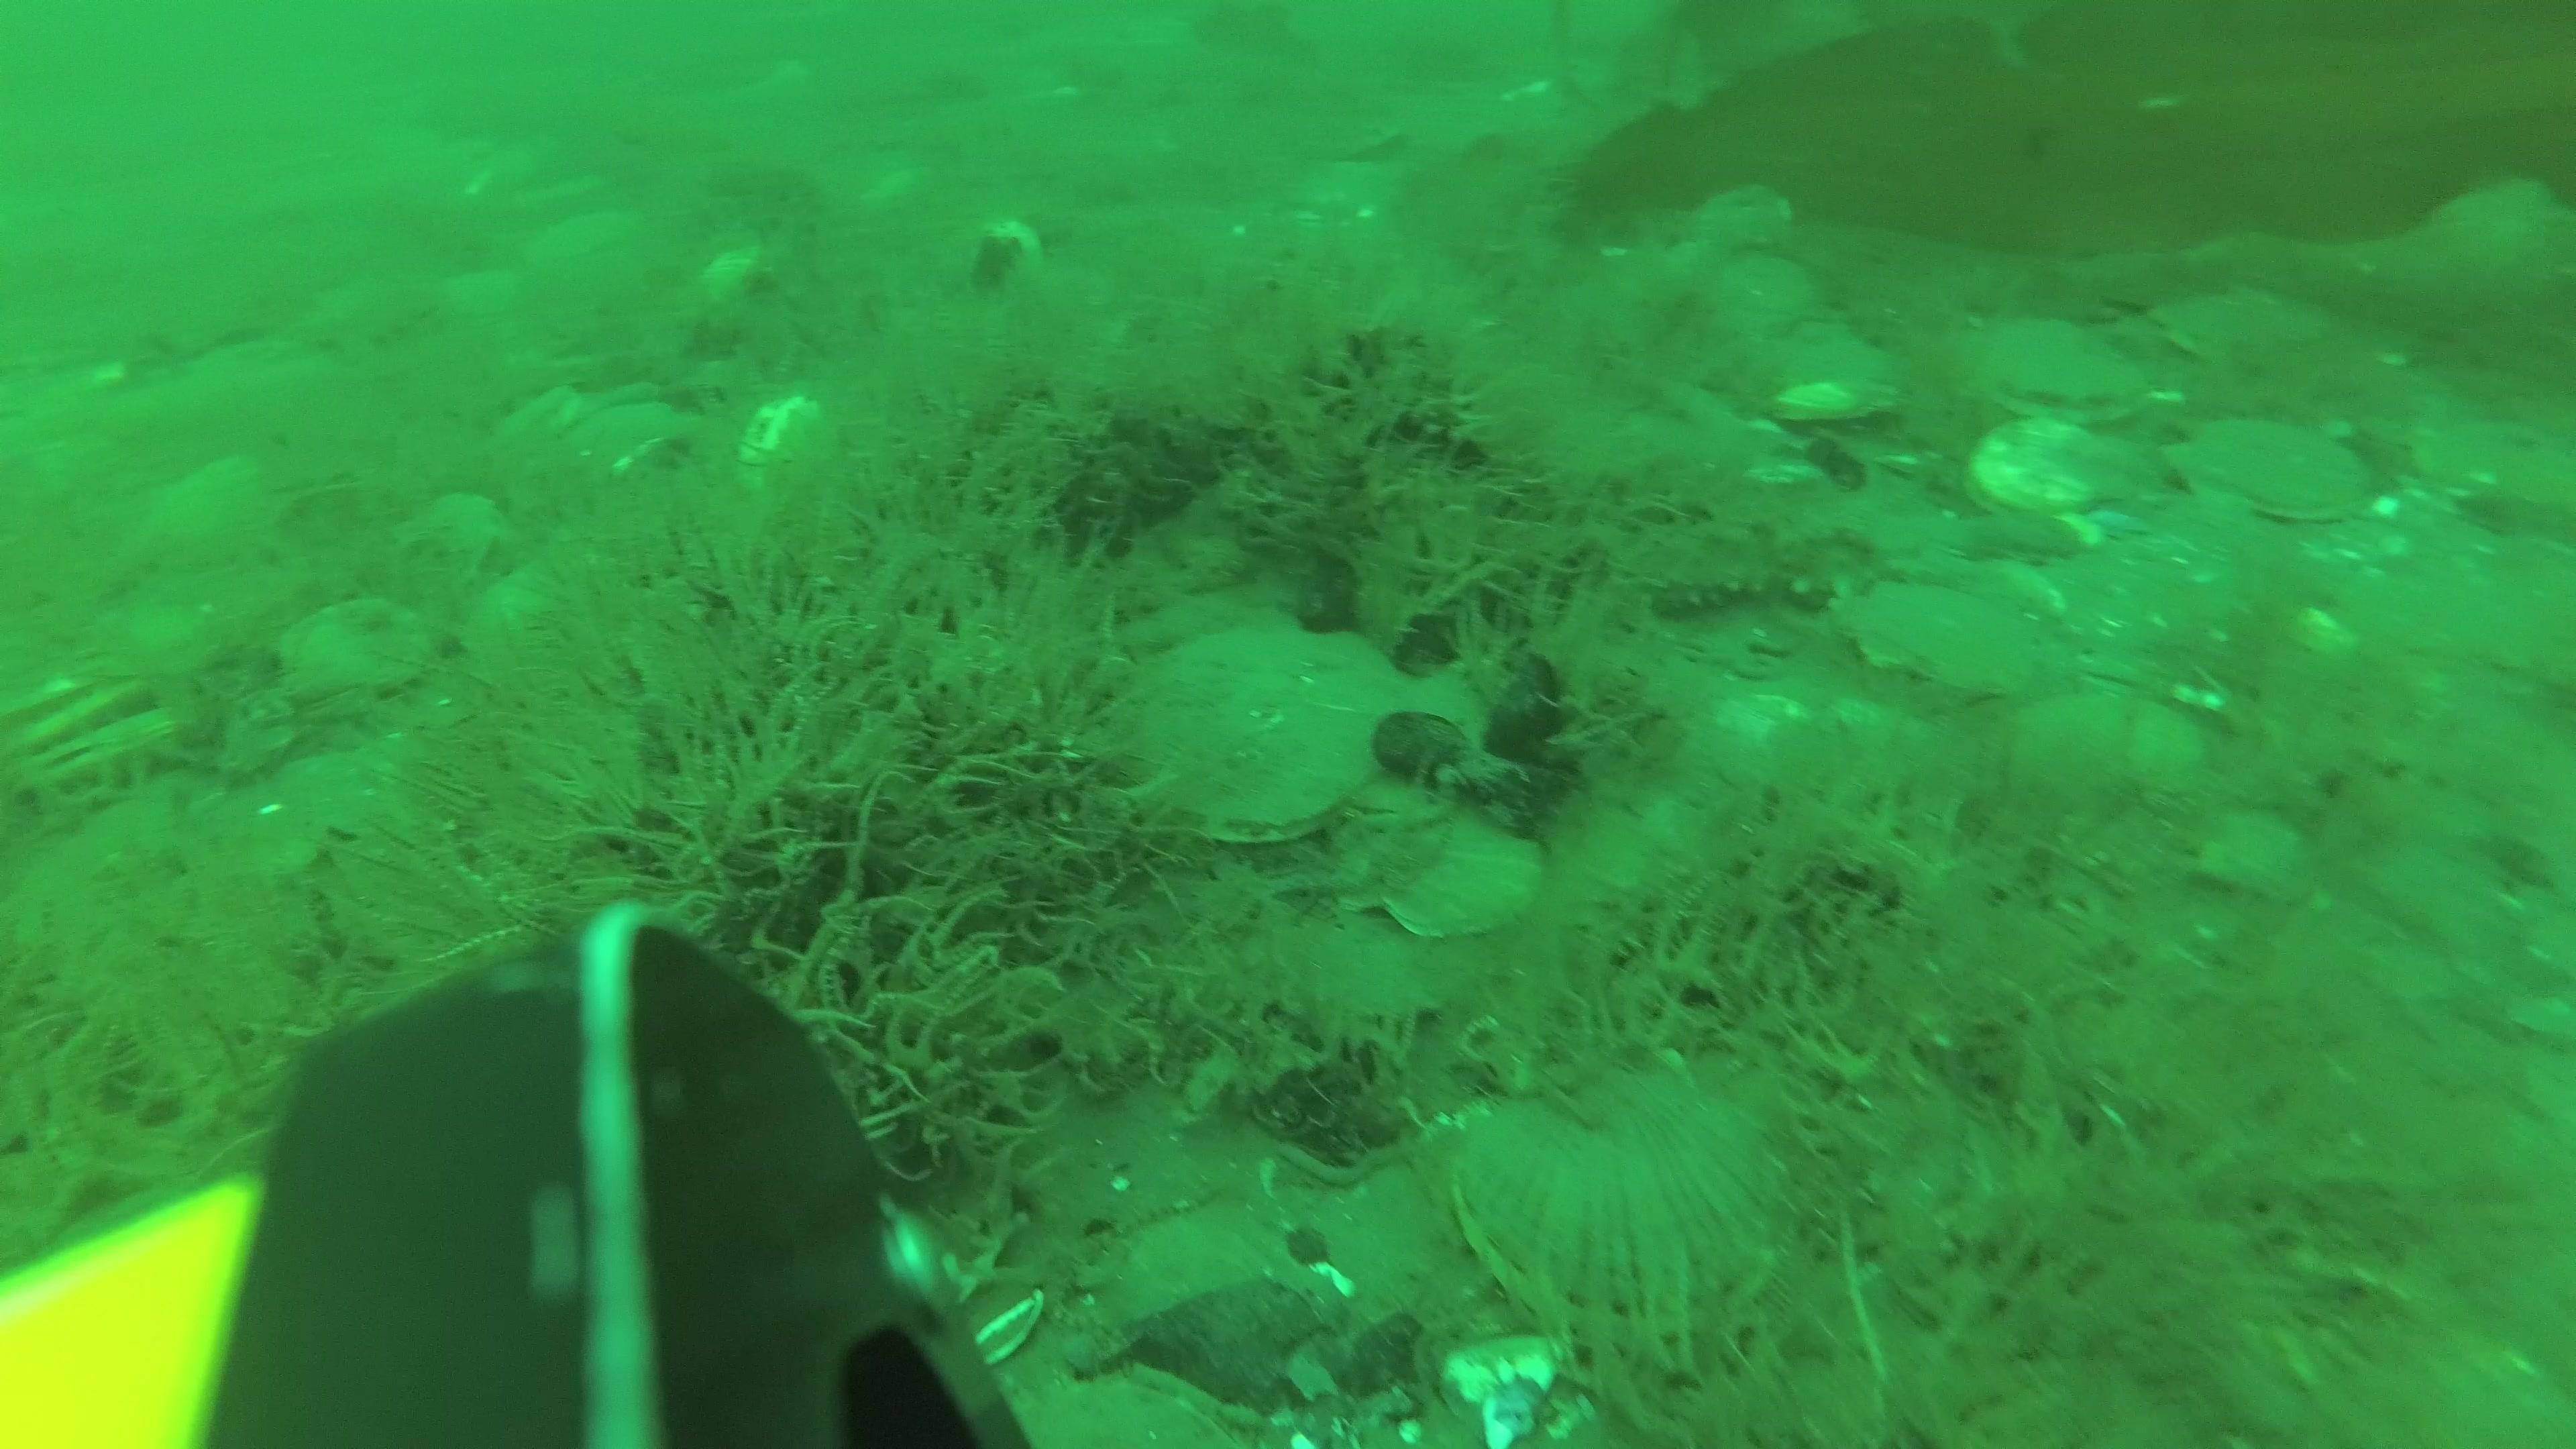scallop: (1447, 1074, 1785, 1330), (1116, 614, 1426, 851), (1102, 1194, 1350, 1366), (1313, 1154, 1511, 1359), (1842, 568, 2058, 713), (1263, 879, 1453, 1028), (2036, 678, 2213, 816), (1334, 669, 1499, 814), (2192, 402, 2376, 524), (1394, 805, 1541, 955), (1969, 304, 2151, 419), (1019, 1357, 1235, 1449), (1967, 416, 2151, 522), (7, 713, 179, 810), (283, 598, 433, 708), (1753, 322, 1905, 430), (2420, 418, 2576, 518), (386, 487, 518, 598), (2178, 283, 2323, 379), (7, 685, 145, 764), (1704, 242, 1815, 333), (11, 649, 113, 727), (1688, 179, 1796, 248)
